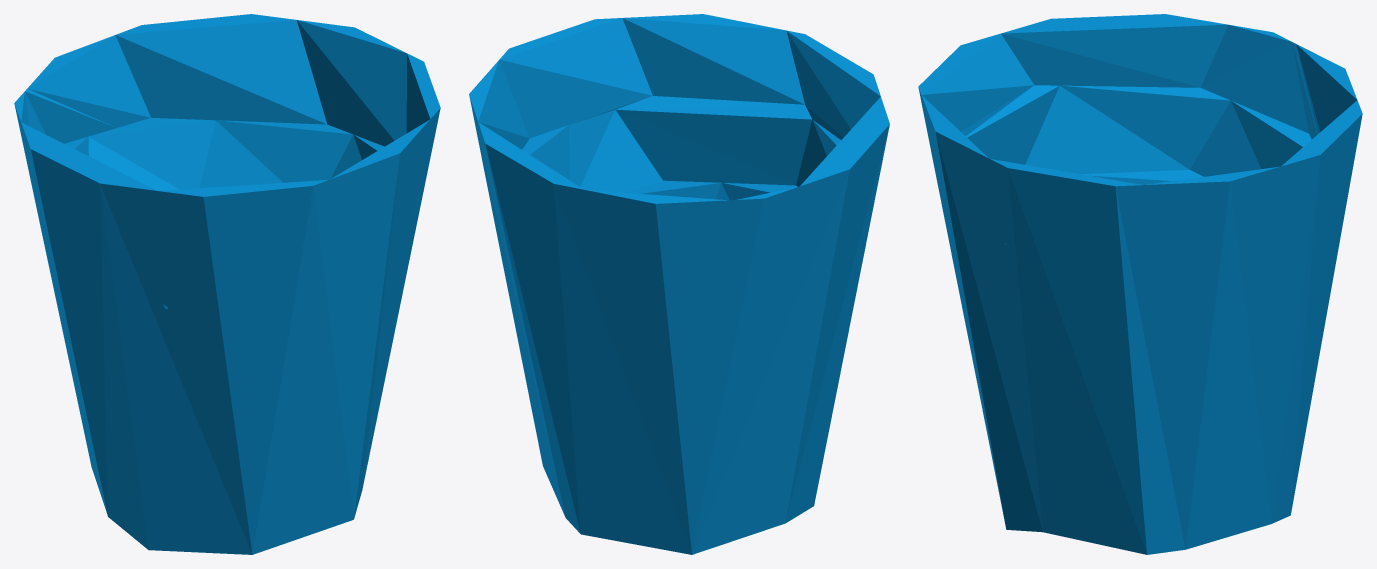
File: Basket.fbx
3 views of the same model, side by side, from view 1: azimuth 30°, elevation 25°; view 2: azimuth 150°, elevation 25°; view 3: azimuth 270°, elevation 25° (orthographic). The views are drawn at different scales.
Visible parts, largest first — view 1: mesh_1383380097; view 2: mesh_1383380097; view 3: mesh_1383380097.
Boxes of the visible parts, <box> form: mesh_1383380097: <box>14,14,440,554</box>; mesh_1383380097: <box>469,14,889,554</box>; mesh_1383380097: <box>918,14,1362,554</box>.
Bounding box in the file's own units: 104 × 109 × 104.
